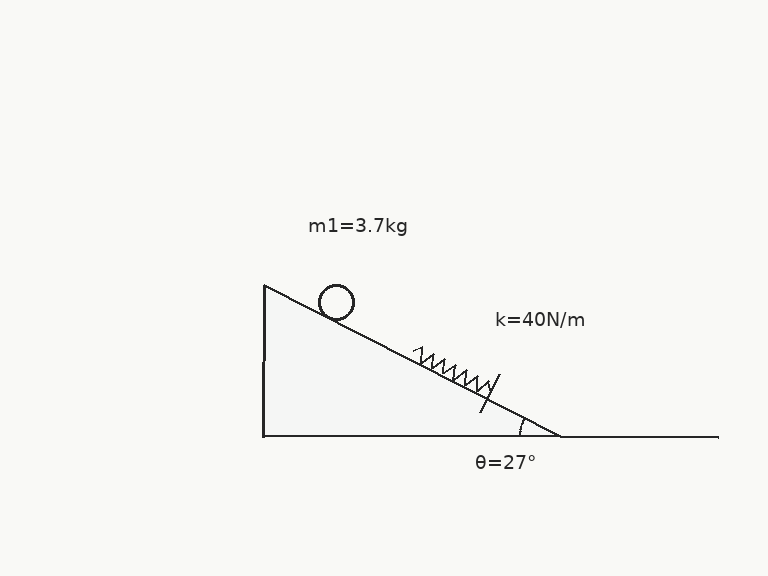ball: (316, 282, 356, 322)
ramp: (262, 283, 562, 438)
spring: (411, 346, 492, 393)
